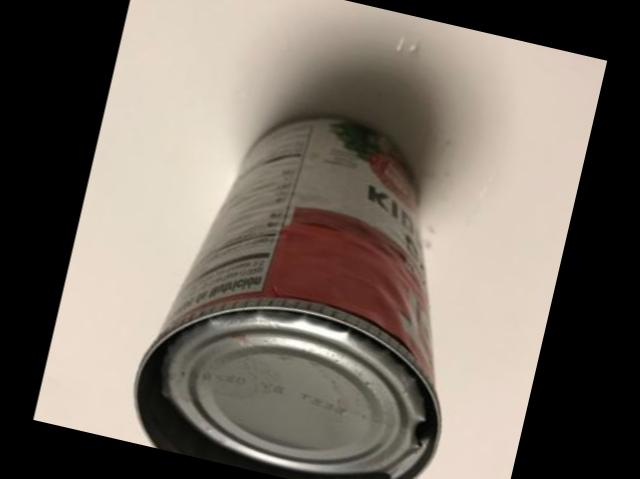metal: (138, 120, 441, 479)
